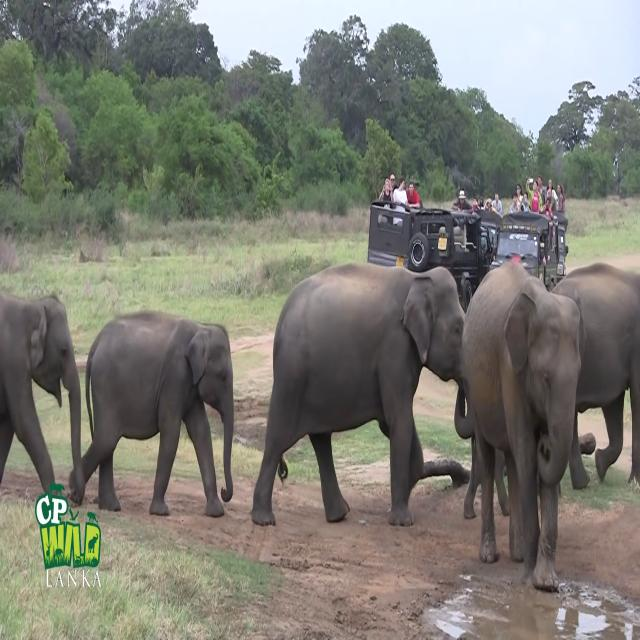Elephant: (250, 262, 476, 528), (460, 258, 587, 592), (69, 308, 234, 518), (550, 261, 640, 489), (0, 292, 84, 499)
